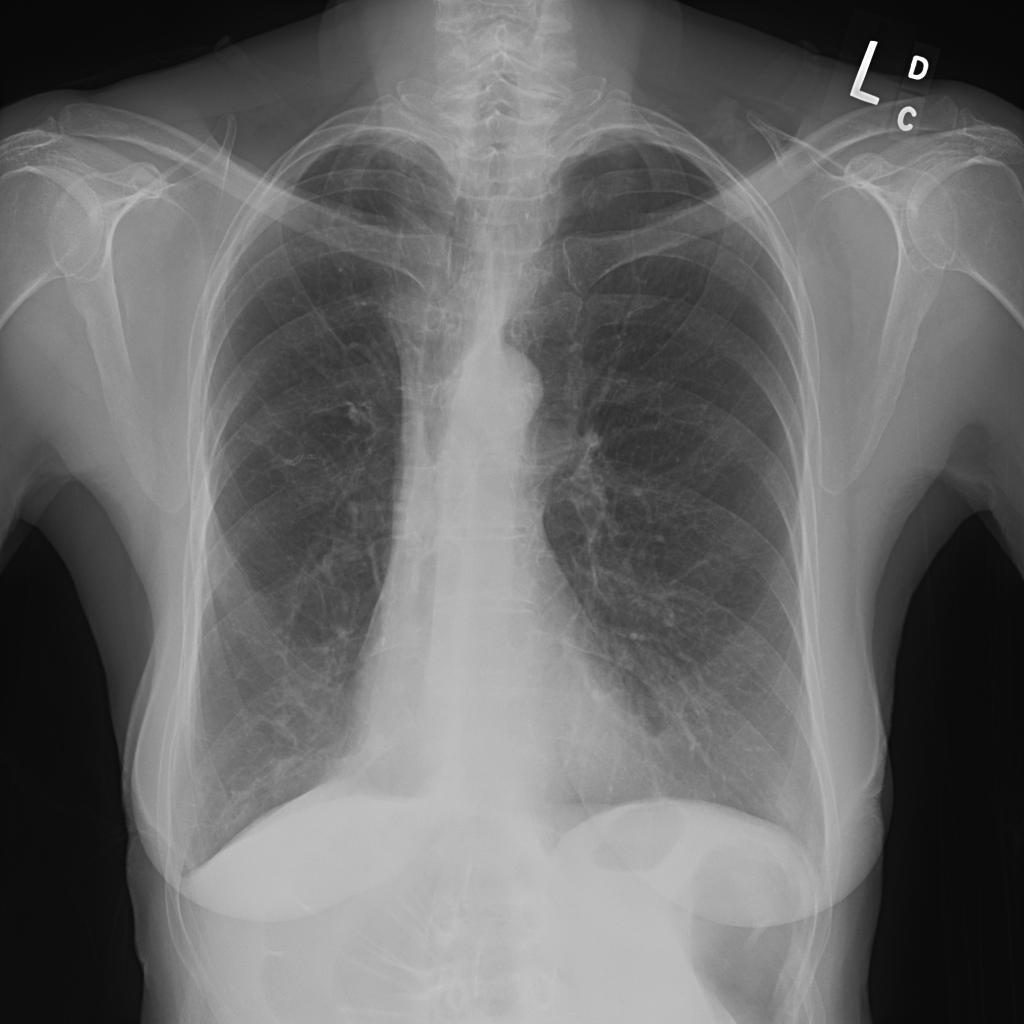Nodule: (141, 293, 181, 330), (313, 274, 328, 294)
